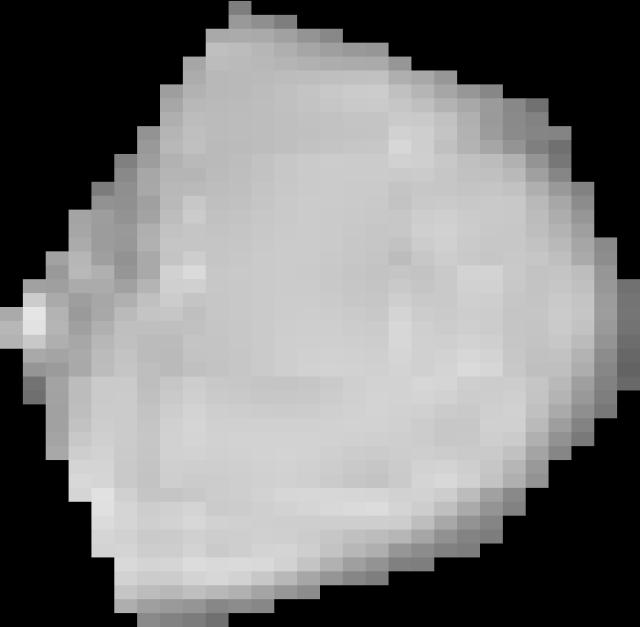tumor_good_chance: (0, 1, 640, 627)
